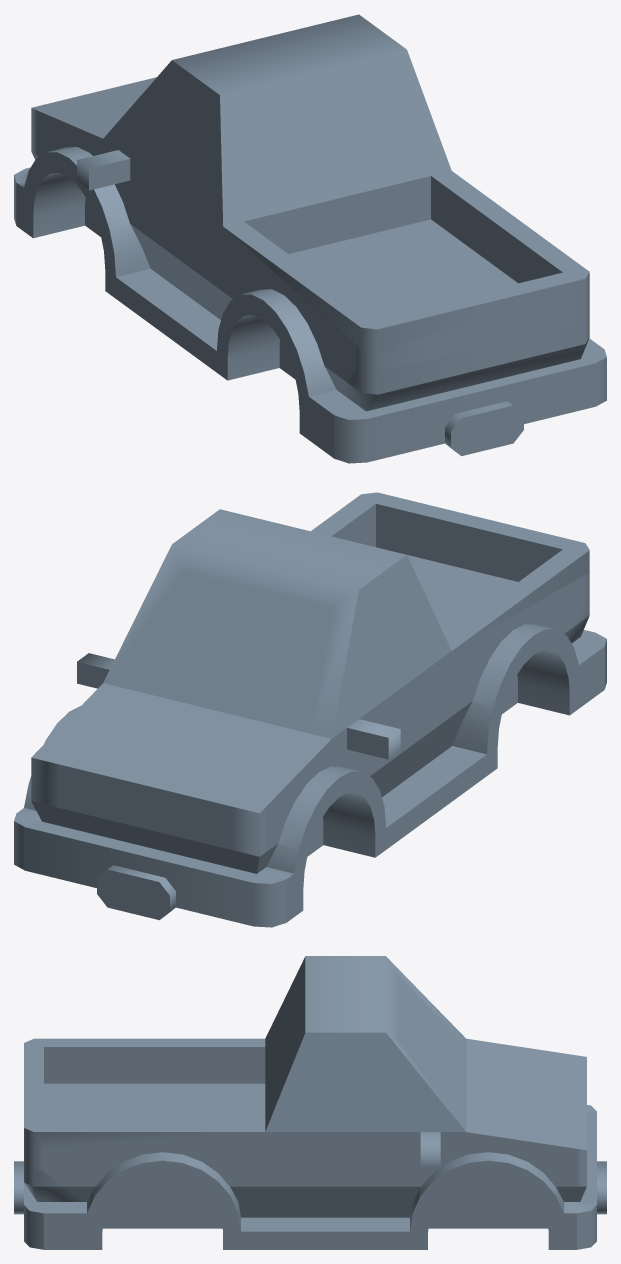
Rendered from truck.glb.
The picture shows the model from 3 angles, top to bottom: view 1: azimuth 30°, elevation 25°; view 2: azimuth 150°, elevation 25°; view 3: azimuth 270°, elevation 25°; orthographic projection. The views are drawn at different scales.
Visible parts, largest first — view 1: body; view 2: body; view 3: body.
Boxes of the visible parts, x1=… form: body: x1=14, y1=14, x2=606, y2=463; body: x1=14, y1=492, x2=606, y2=927; body: x1=14, y1=956, x2=606, y2=1249.
Bounding box in the file's own units: 1.5 × 1.15 × 2.95.
